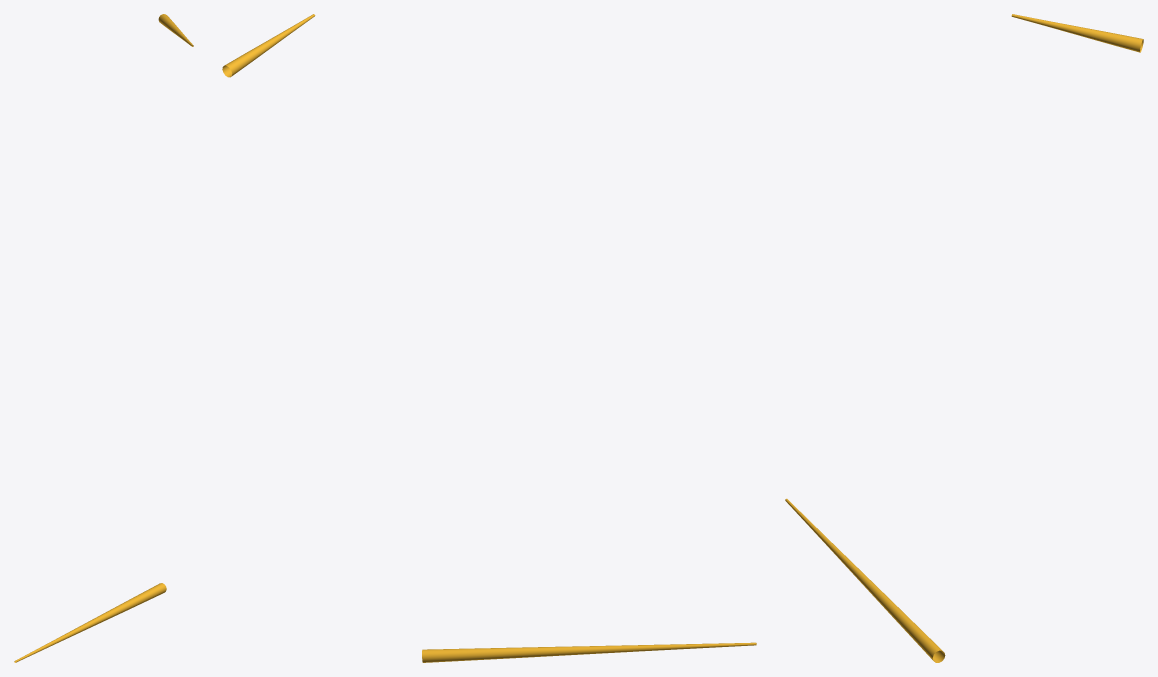
The model's file is nervoso-muscular-branches-of-ulnar-nerve-r.glb.
3 views of the same model, side by side, from view 1: azimuth 30°, elevation 25°; view 2: azimuth 150°, elevation 25°; view 3: azimuth 270°, elevation 25° (orthographic). The views are drawn at different scales.
Parts seen in each view (by area): view 1: Muscular branches of ulnar nerve.r; view 2: Muscular branches of ulnar nerve.r; view 3: Muscular branches of ulnar nerve.r.
Boxes of the visible parts, left/top/right/bottom form: Muscular branches of ulnar nerve.r: left=14, top=14, right=193, bottom=662; Muscular branches of ulnar nerve.r: left=222, top=14, right=756, bottom=662; Muscular branches of ulnar nerve.r: left=785, top=14, right=1143, bottom=662.
Bounding box in the file's own units: 0.0314 × 0.0539 × 0.0255.
